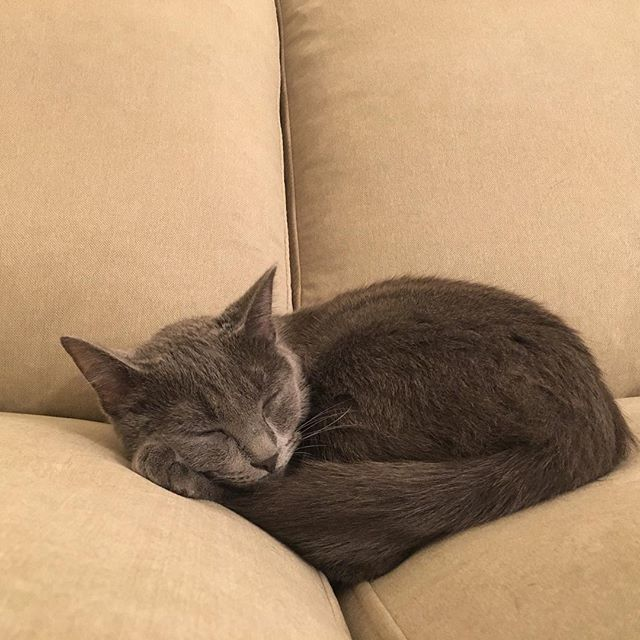cat: (45, 255, 313, 523)
